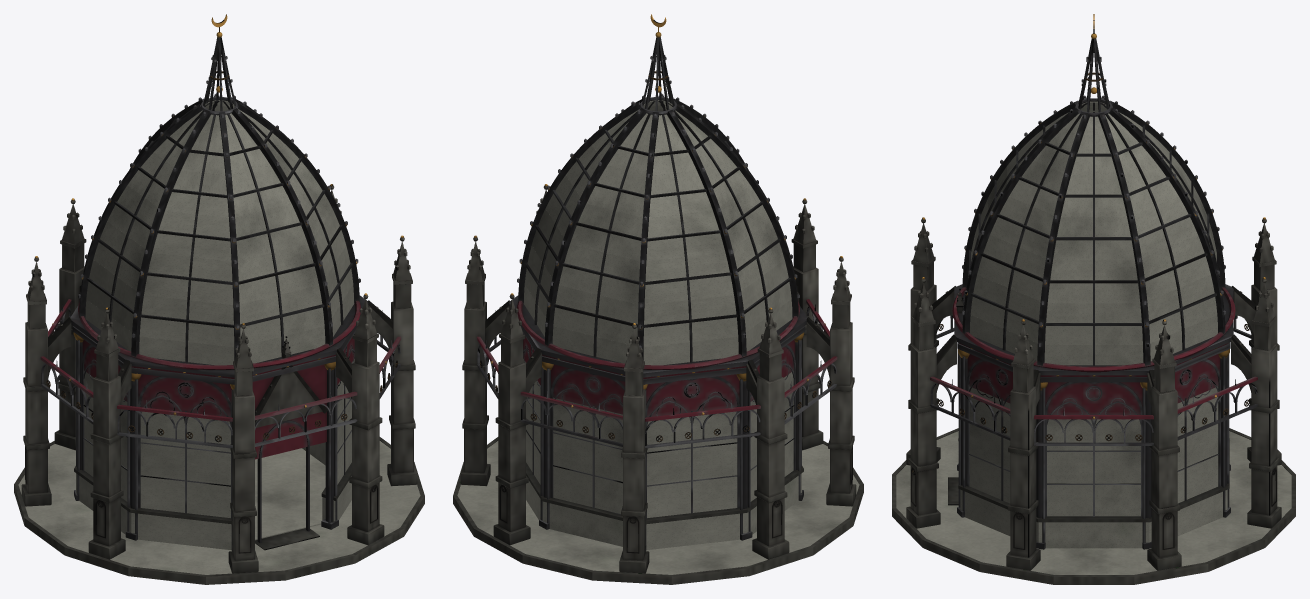
File: ConservatoryDome.fbx
The picture shows the model from 3 angles, left to right: view 1: azimuth 30°, elevation 25°; view 2: azimuth 150°, elevation 25°; view 3: azimuth 270°, elevation 25°; orthographic projection.
Visible parts, largest first — view 1: ConservatoryDome_Glass, ConservatoryDome_Spires, ConservatoryDome_Dome, ConservatoryDome_Main, ConservatoryDome_Wall, ConservatoryDome_Drum, ConservatoryDome_Crown, ConservatoryDome_Floor; view 2: ConservatoryDome_Glass, ConservatoryDome_Spires, ConservatoryDome_Dome, ConservatoryDome_Wall, ConservatoryDome_Main, ConservatoryDome_Drum, ConservatoryDome_Crown; view 3: ConservatoryDome_Glass, ConservatoryDome_Spires, ConservatoryDome_Dome, ConservatoryDome_Wall, ConservatoryDome_Main, ConservatoryDome_Drum, ConservatoryDome_Crown.
Part boxes in pixels (x1=…): ConservatoryDome_Glass: x1=84, y1=100, x2=354, y2=517; ConservatoryDome_Spires: x1=21, y1=184, x2=417, y2=573; ConservatoryDome_Dome: x1=78, y1=14, x2=360, y2=369; ConservatoryDome_Main: x1=14, y1=295, x2=424, y2=584; ConservatoryDome_Wall: x1=18, y1=441, x2=420, y2=574; ConservatoryDome_Drum: x1=82, y1=333, x2=354, y2=542; ConservatoryDome_Crown: x1=40, y1=299, x2=401, y2=448; ConservatoryDome_Floor: x1=255, y1=448, x2=325, y2=540; ConservatoryDome_Glass: x1=523, y1=100, x2=793, y2=517; ConservatoryDome_Spires: x1=460, y1=184, x2=856, y2=573; ConservatoryDome_Dome: x1=517, y1=14, x2=799, y2=369; ConservatoryDome_Wall: x1=457, y1=441, x2=859, y2=574; ConservatoryDome_Main: x1=453, y1=295, x2=863, y2=584; ConservatoryDome_Drum: x1=523, y1=333, x2=795, y2=518; ConservatoryDome_Crown: x1=476, y1=299, x2=837, y2=448; ConservatoryDome_Glass: x1=968, y1=101, x2=1219, y2=516; ConservatoryDome_Spires: x1=906, y1=217, x2=1281, y2=570; ConservatoryDome_Dome: x1=952, y1=14, x2=1235, y2=372; ConservatoryDome_Wall: x1=896, y1=431, x2=1291, y2=574; ConservatoryDome_Main: x1=892, y1=284, x2=1295, y2=584; ConservatoryDome_Drum: x1=967, y1=354, x2=1220, y2=516; ConservatoryDome_Crown: x1=930, y1=315, x2=1257, y2=445.
Size of the model in its own units: 1883 by 2486 by 1883.
